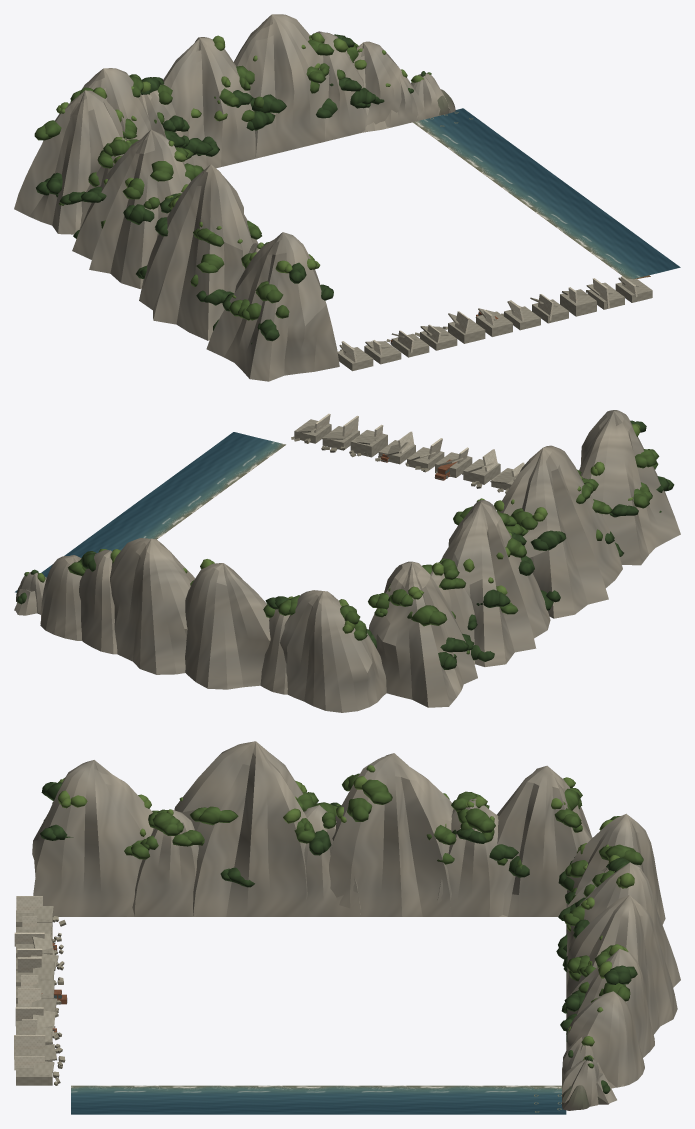
Rendered from rio-limites-v003.glb.
3 renders of one model, top to bottom at view 1: azimuth 30°, elevation 25°; view 2: azimuth 150°, elevation 25°; view 3: azimuth 270°, elevation 25°, orthographic. The views are drawn at different scales.
Visible parts, largest first — view 1: RIO_limites_00_pedra_morro, RIO_limites_11_mar, RIO_limites_01_pedra_morro, RIO_limites_02_pedra_morro, RIO_limites_10_pedra_morro, RIO_limites_20_pedra_morro, RIO_limites_00_mata_escura, RIO_limites_12_concreto, RIO_limites_02_mata_media, RIO_limites_02_concreto, RIO_limites_00_mata_media, RIO_limites_22_concreto (+9 smaller); view 2: RIO_limites_00_pedra_morro, RIO_limites_10_pedra_morro, RIO_limites_01_pedra_morro, RIO_limites_11_mar, RIO_limites_02_pedra_morro, RIO_limites_20_pedra_morro, RIO_limites_00_mata_media, RIO_limites_12_concreto, RIO_limites_22_concreto, RIO_limites_00_mata_escura, RIO_limites_02_mata_media, RIO_limites_01_mata_media (+4 smaller); view 3: RIO_limites_00_pedra_morro, RIO_limites_01_pedra_morro, RIO_limites_02_pedra_morro, RIO_limites_11_mar, RIO_limites_10_pedra_morro, RIO_limites_20_pedra_morro, RIO_limites_00_mata_media, RIO_limites_01_mata_media, RIO_limites_02_mata_media, RIO_limites_00_mata_escura, RIO_limites_12_reboco, RIO_limites_12_concreto (+12 smaller).
Boxes of the visible parts, x1,y1,x2,y2 form: RIO_limites_00_pedra_morro: (14, 37, 255, 288); RIO_limites_11_mar: (413, 108, 680, 279); RIO_limites_01_pedra_morro: (139, 164, 257, 340); RIO_limites_02_pedra_morro: (206, 232, 339, 381); RIO_limites_10_pedra_morro: (234, 14, 367, 158); RIO_limites_20_pedra_morro: (354, 41, 449, 132); RIO_limites_00_mata_escura: (36, 77, 219, 238); RIO_limites_12_concreto: (448, 297, 568, 343); RIO_limites_02_mata_media: (190, 220, 289, 320); RIO_limites_02_concreto: (337, 326, 457, 371); RIO_limites_00_mata_media: (34, 74, 172, 228); RIO_limites_22_concreto: (560, 277, 652, 316); RIO_limites_00_pedra_morro: (185, 500, 550, 712); RIO_limites_10_pedra_morro: (79, 538, 194, 674); RIO_limites_01_pedra_morro: (497, 445, 622, 618); RIO_limites_11_mar: (15, 432, 285, 592); RIO_limites_02_pedra_morro: (579, 410, 680, 565); RIO_limites_20_pedra_morro: (15, 555, 82, 640); RIO_limites_00_mata_media: (263, 558, 518, 654); RIO_limites_12_concreto: (378, 440, 500, 484); RIO_limites_22_concreto: (294, 419, 387, 457); RIO_limites_00_mata_escura: (265, 589, 510, 669); RIO_limites_02_mata_media: (576, 449, 659, 540); RIO_limites_01_mata_media: (453, 506, 537, 557); RIO_limites_00_pedra_morro: (329, 753, 680, 987); RIO_limites_01_pedra_morro: (53, 741, 507, 916); RIO_limites_02_pedra_morro: (32, 760, 198, 916); RIO_limites_11_mar: (71, 1085, 566, 1114); RIO_limites_10_pedra_morro: (566, 895, 677, 1057); RIO_limites_20_pedra_morro: (562, 991, 644, 1106); RIO_limites_00_mata_media: (426, 788, 643, 899); RIO_limites_01_mata_media: (294, 773, 392, 843); RIO_limites_02_mata_media: (43, 802, 238, 859); RIO_limites_00_mata_escura: (452, 828, 631, 959); RIO_limites_12_reboco: (15, 957, 43, 1033); RIO_limites_12_concreto: (16, 961, 57, 1036).
Bounding box in the file's own units: 129 × 38.85 × 145.
13 materials, 11 textured.
